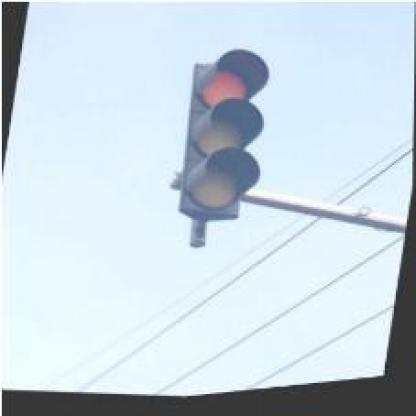red: (168, 43, 272, 228)
